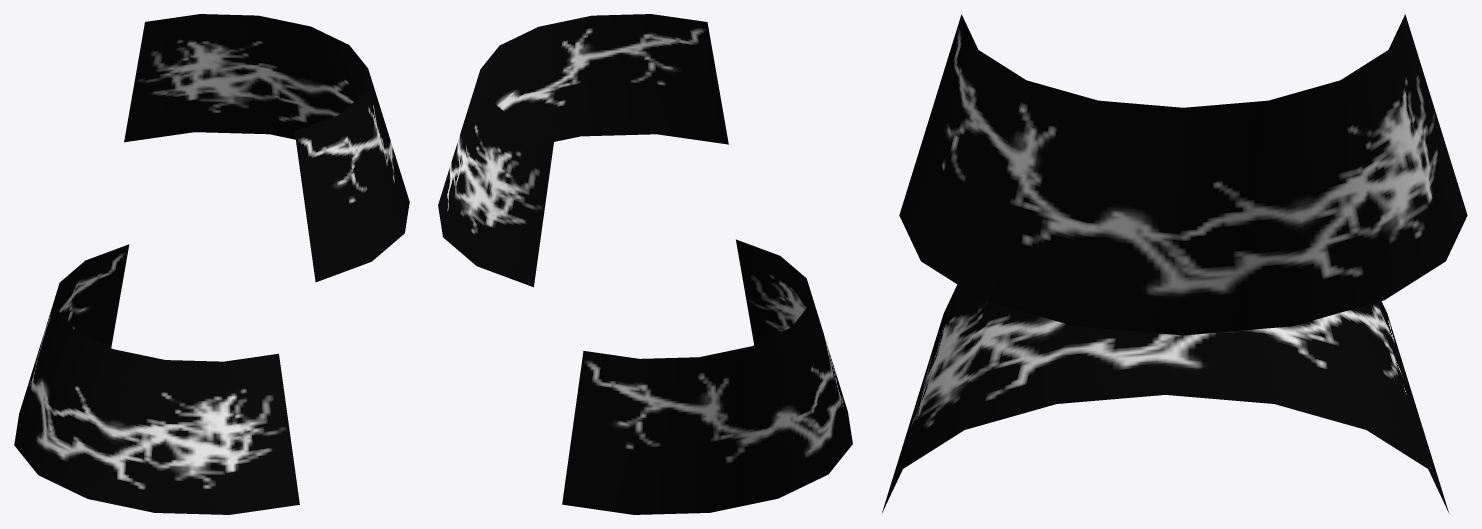
Rendered from EffNessPKThunderHold.obj.
3 views of the same model, side by side, from view 1: azimuth 30°, elevation 25°; view 2: azimuth 150°, elevation 25°; view 3: azimuth 270°, elevation 25° (orthographic). The views are drawn at different scales.
Parts seen in each view (by area): view 1: polygon1, polygon0; view 2: polygon1, polygon0; view 3: polygon0, polygon1.
Part boxes in pixels (<box>): polygon1: <box>14,244,299,514</box>; polygon0: <box>124,14,409,282</box>; polygon1: <box>562,239,852,514</box>; polygon0: <box>438,14,728,287</box>; polygon0: <box>899,14,1467,335</box>; polygon1: <box>882,284,1449,513</box>.
Size of the model in its own units: 13.92 by 13.11 by 13.48.
Materials: 1 (1 with a texture image).
